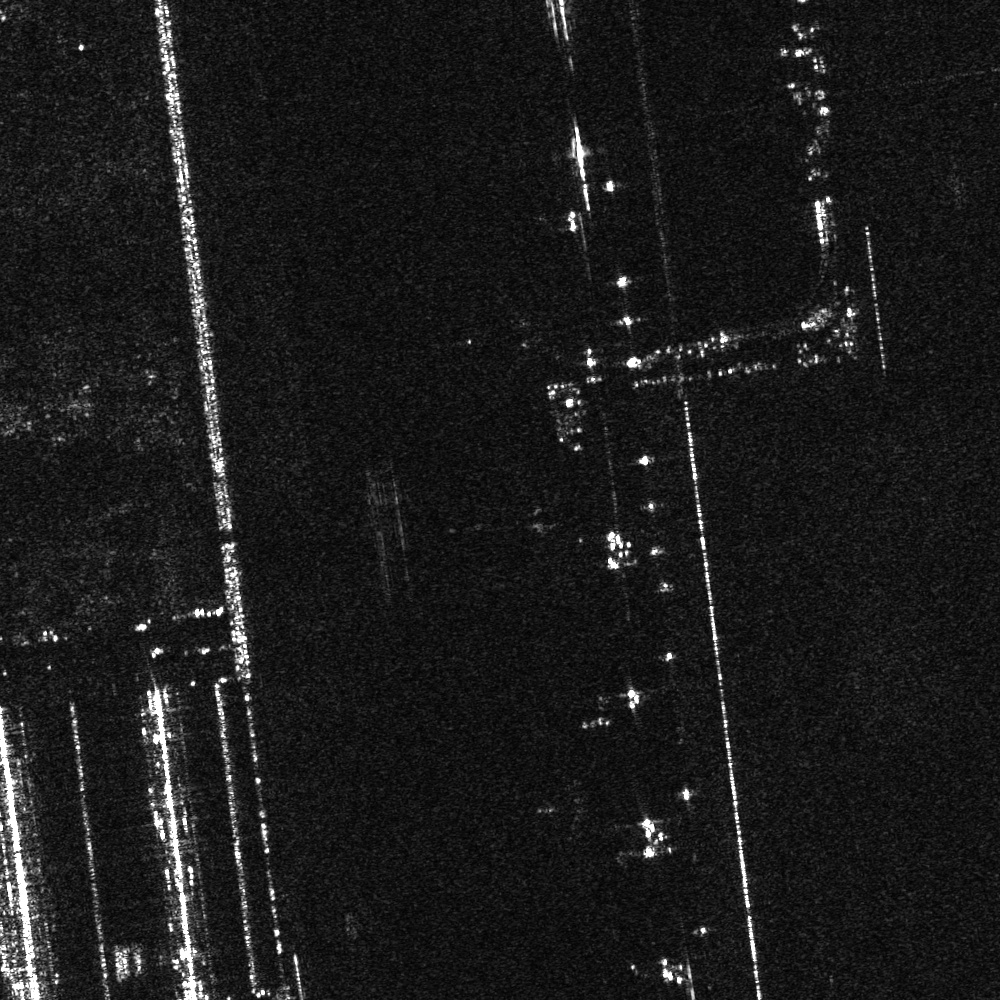Boeing787: (529, 768, 606, 844)
